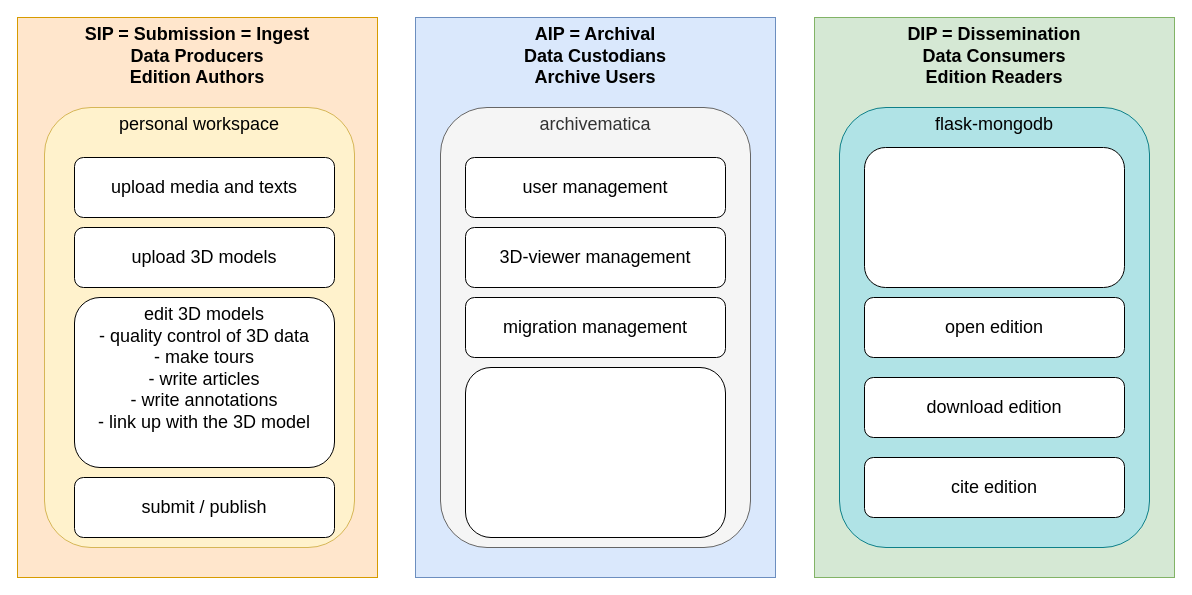
The diagram is 1192 pixels wide and 595 high, and some of its shapes have lost their labels. The centre of each missing label's shape, as x and y in pixels:
datasets - metadata - media - 3D models - annotations: the point at 595,452
search browse: editions metadata media annotations: the point at 994,217
